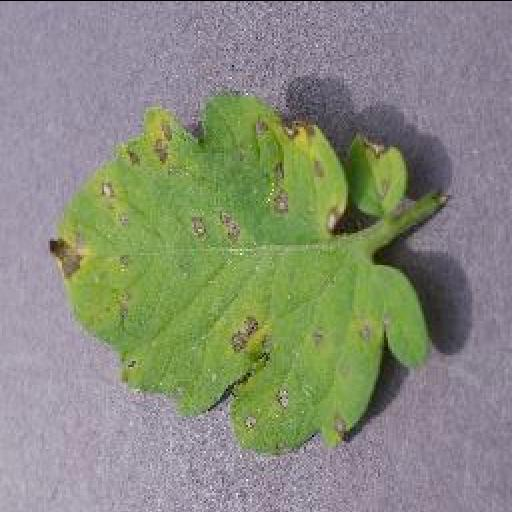disease_tomato: (44, 90, 428, 450)
